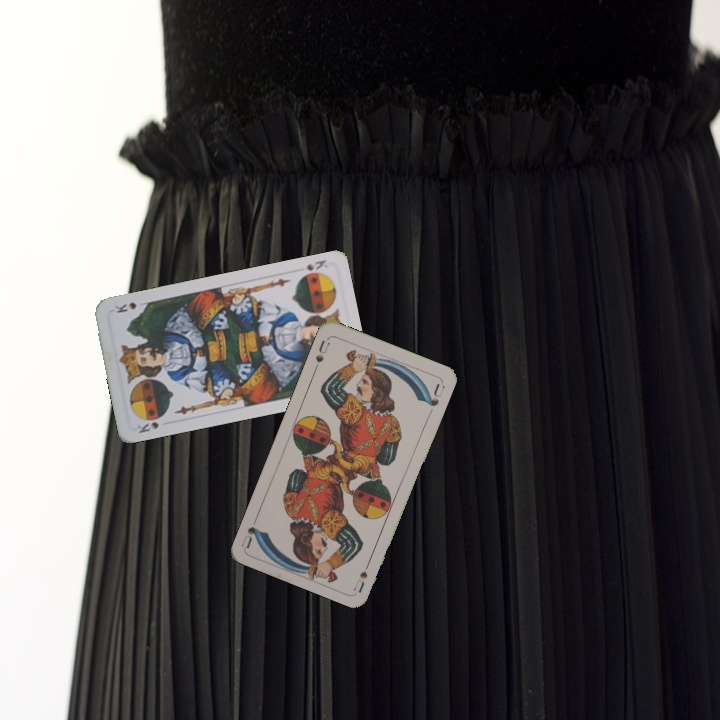SK: (296, 255, 330, 280), (133, 412, 166, 436)
SU: (350, 554, 374, 594), (310, 336, 333, 373)
